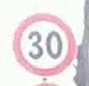limite 30: (11, 13, 78, 77)
